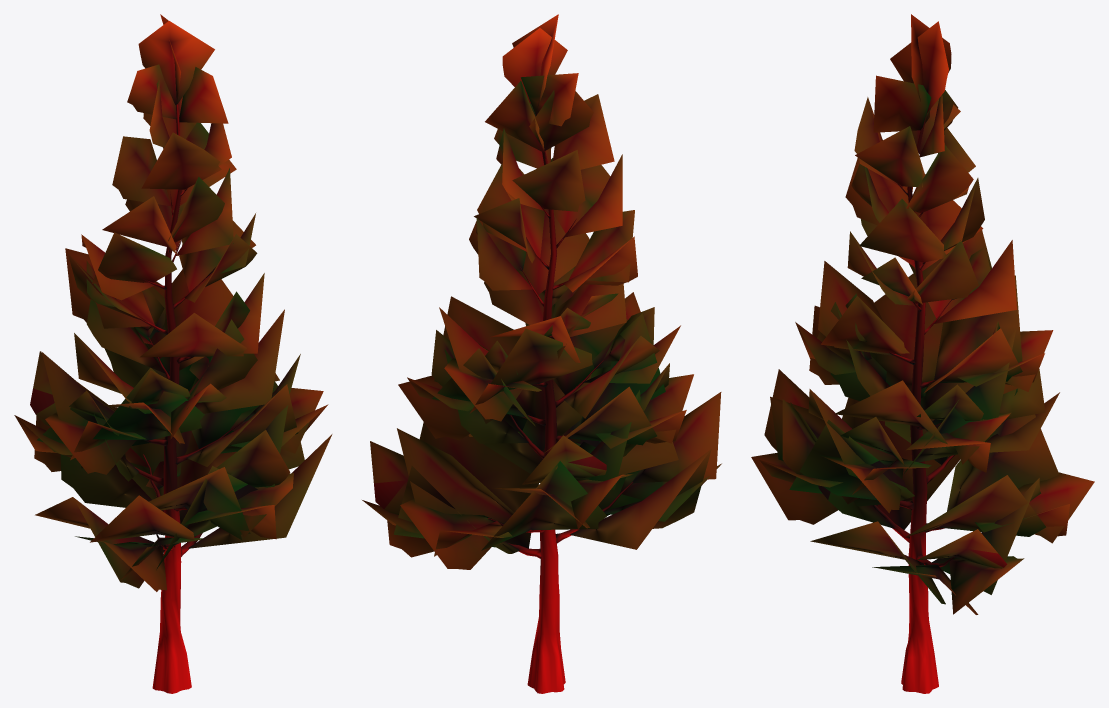
File: SpruceTreeRHEWP_A.fbx
The picture shows the model from 3 angles, left to right: view 1: azimuth 30°, elevation 25°; view 2: azimuth 150°, elevation 25°; view 3: azimuth 270°, elevation 25°; orthographic projection.
Visible parts, largest first — view 1: STA_Leaves_LOD0, STA_Bark_LOD0; view 2: STA_Leaves_LOD0, STA_Bark_LOD0; view 3: STA_Leaves_LOD0, STA_Bark_LOD0.
Boxes of the visible parts, x1,y1,x2,y2 form: STA_Leaves_LOD0: (14, 14, 332, 591); STA_Bark_LOD0: (135, 104, 243, 693); STA_Leaves_LOD0: (362, 14, 721, 569); STA_Bark_LOD0: (488, 111, 633, 693); STA_Leaves_LOD0: (751, 14, 1094, 614); STA_Bark_LOD0: (872, 114, 954, 693).
Size of what is drawn, in the model's own units: 10.31 by 22.71 by 10.58.
